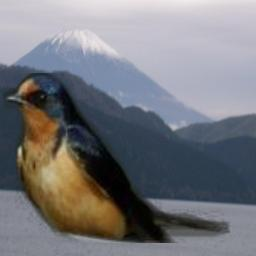Swallow: (3, 73, 230, 243)
